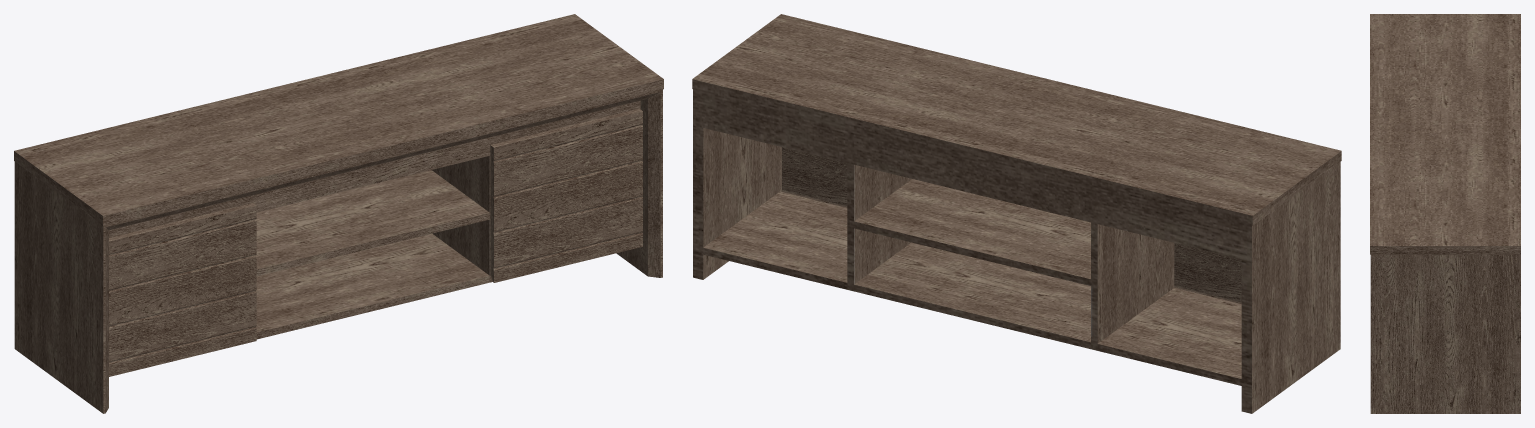
The model's file is tv_stand.glb.
The picture shows the model from 3 angles, left to right: view 1: azimuth 30°, elevation 25°; view 2: azimuth 150°, elevation 25°; view 3: azimuth 270°, elevation 25°; orthographic projection. The views are drawn at different scales.
Visible parts, largest first — view 1: TvStand, TvStandDoor2, TvStandDoor1; view 2: TvStand, TvStandDoor1, TvStandDoor2; view 3: TvStand.
Boxes of the visible parts, x1,y1,x2,y2 form: TvStand: (14,14,663,413); TvStandDoor2: (490,108,642,282); TvStandDoor1: (109,203,256,376); TvStand: (692,14,1341,413); TvStandDoor1: (1174,243,1241,303); TvStandDoor2: (782,147,847,207); TvStand: (1370,14,1520,413).
Bounding box in the file's own units: 140 × 47.43 × 38.58.
2 materials, 2 textured.
